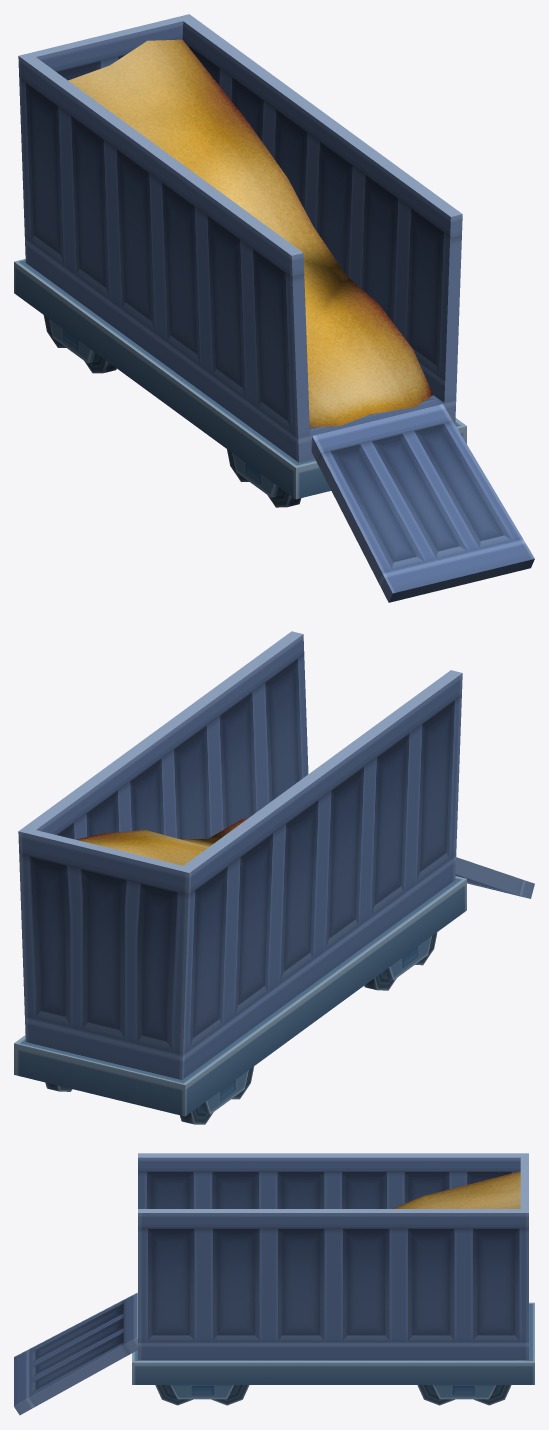
Rendered from Train02.FBX.
3 renders of one model, top to bottom at view 1: azimuth 30°, elevation 25°; view 2: azimuth 150°, elevation 25°; view 3: azimuth 270°, elevation 25°, orthographic. The views are drawn at different scales.
Visible parts, largest first — view 1: Train02, door; view 2: Train02, door; view 3: Train02, door.
Part boxes in pixels (bbox=[...]): Train02: bbox=[14, 14, 466, 507]; door: bbox=[311, 404, 534, 602]; Train02: bbox=[14, 631, 466, 1124]; door: bbox=[455, 857, 534, 898]; Train02: bbox=[132, 1153, 534, 1405]; door: bbox=[14, 1292, 137, 1415].
Bounding box in the file's own units: 200 × 324 × 737.
